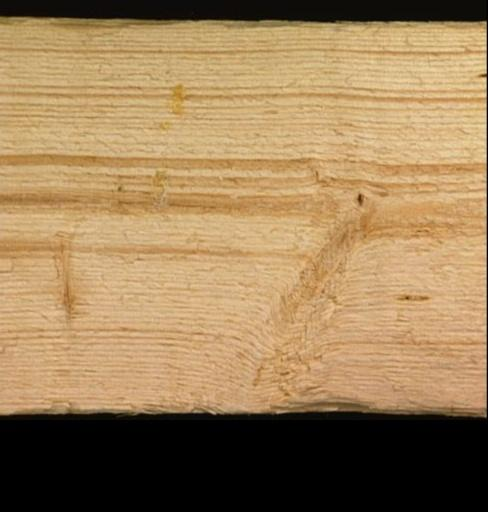wave: (31, 389, 436, 417)
